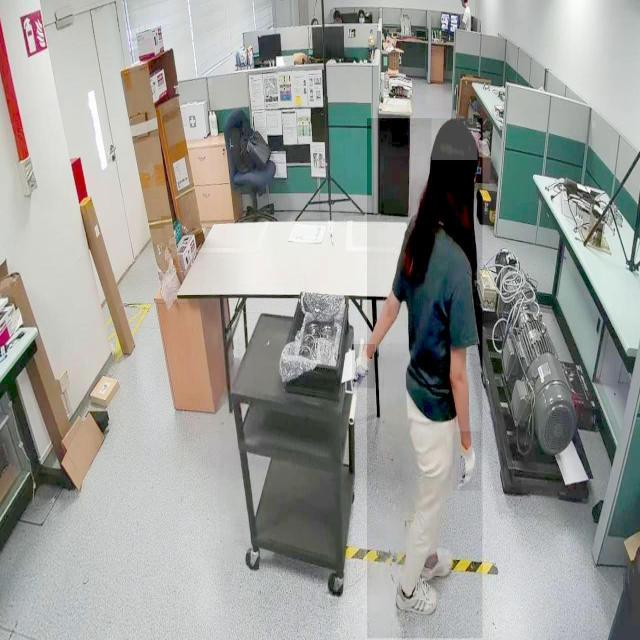hand_glove: (453, 431, 481, 492), (352, 344, 375, 388)
head_nohelmet: (432, 118, 478, 161)
person: (367, 118, 483, 639)
shoes: (391, 571, 440, 617), (416, 540, 453, 586)
